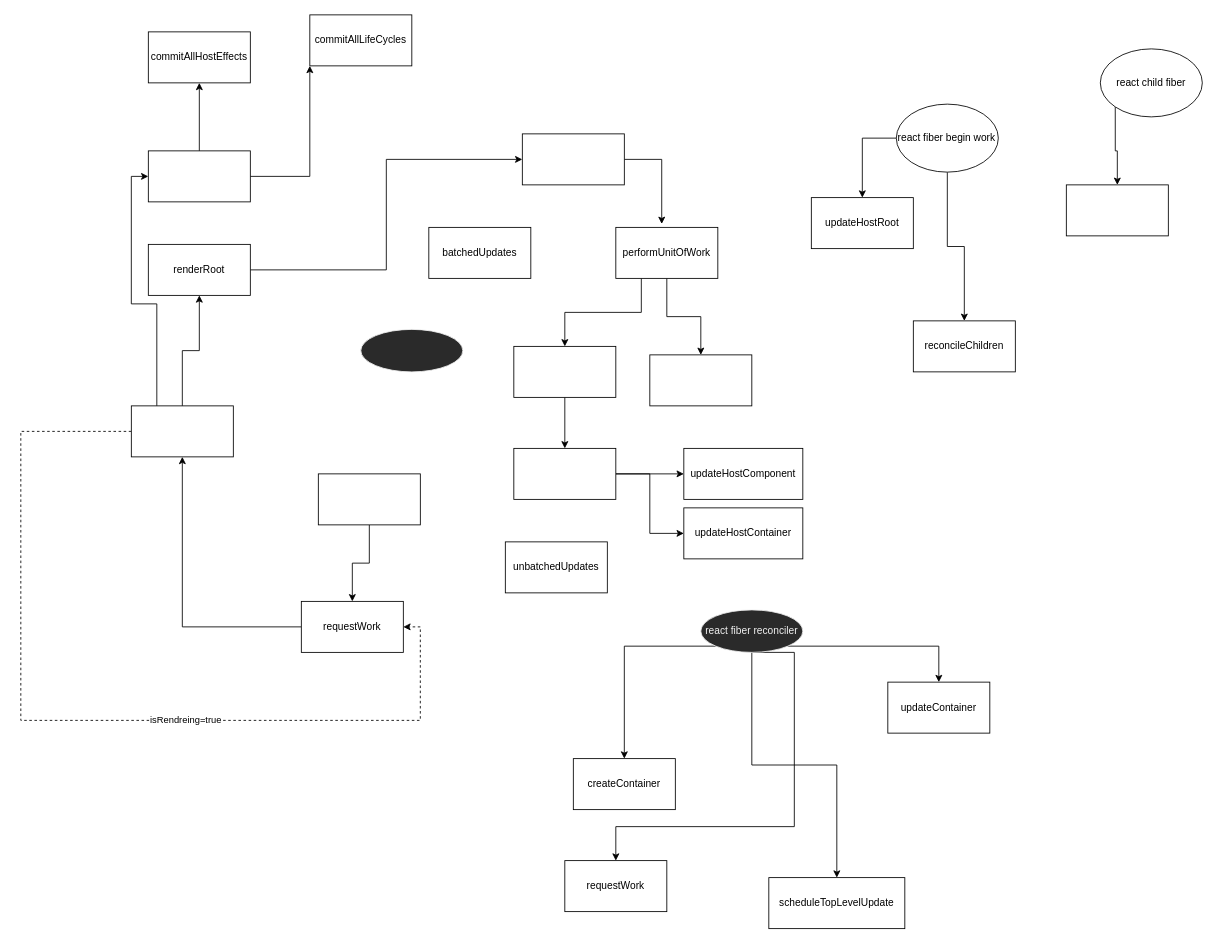
Image size: 1217x944. Some labels were removed from this diagram. Here are the shapes that lost their labels. From the top down, the centre of each, then its label:
At [198,176]: "commitRoot".
At [572,159]: "workloop".
At [1116,210]: "reconcileChildFibers".
At [411,350]: "react fiber schedule".
At [564,371]: "completeUnitOfWork".
At [700,380]: "beginWork".
At [181,431]: "performWorkOnRoot".
At [564,473]: "completeWork".
At [368,499]: "scheduleWork".
